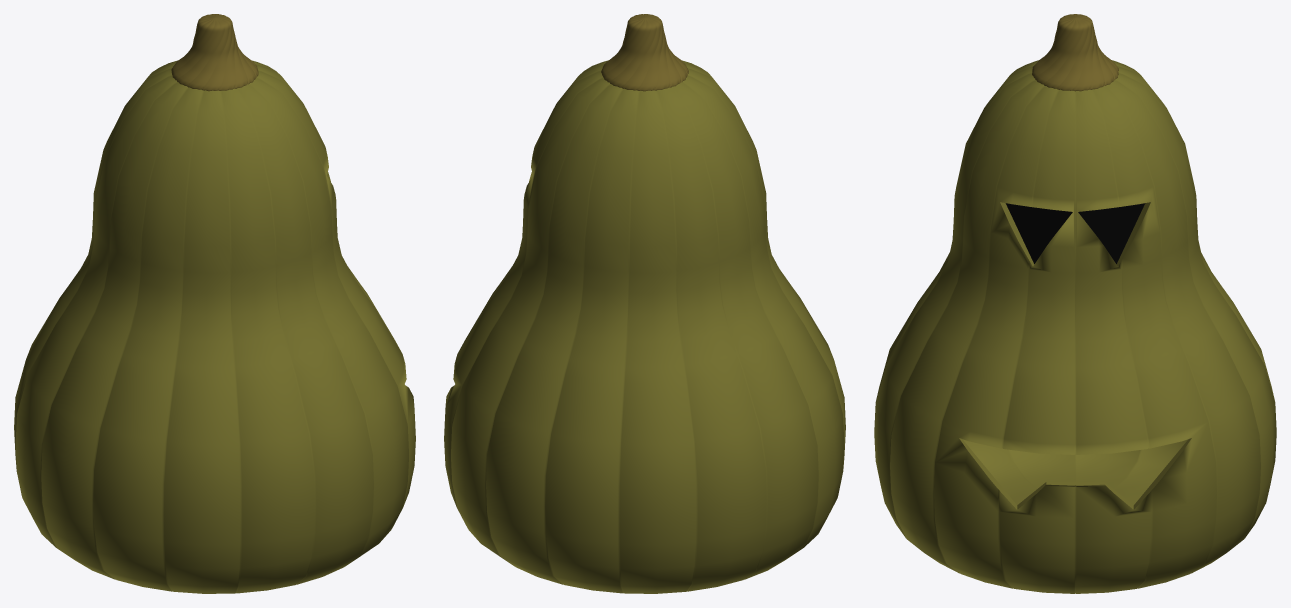
Rendered from Calabaza2.fbx.
3 views of the same model, side by side, from view 1: azimuth 30°, elevation 25°; view 2: azimuth 150°, elevation 25°; view 3: azimuth 270°, elevation 25° (orthographic).
Visible parts, largest first — view 1: Sphere; view 2: Sphere; view 3: Sphere.
Boxes of the visible parts, box(x1,y1,x2,y2) form: Sphere: box(14, 14, 415, 593); Sphere: box(444, 14, 845, 593); Sphere: box(874, 14, 1276, 593).
Size of the model in its own units: 2.61 by 3.66 by 2.61.
